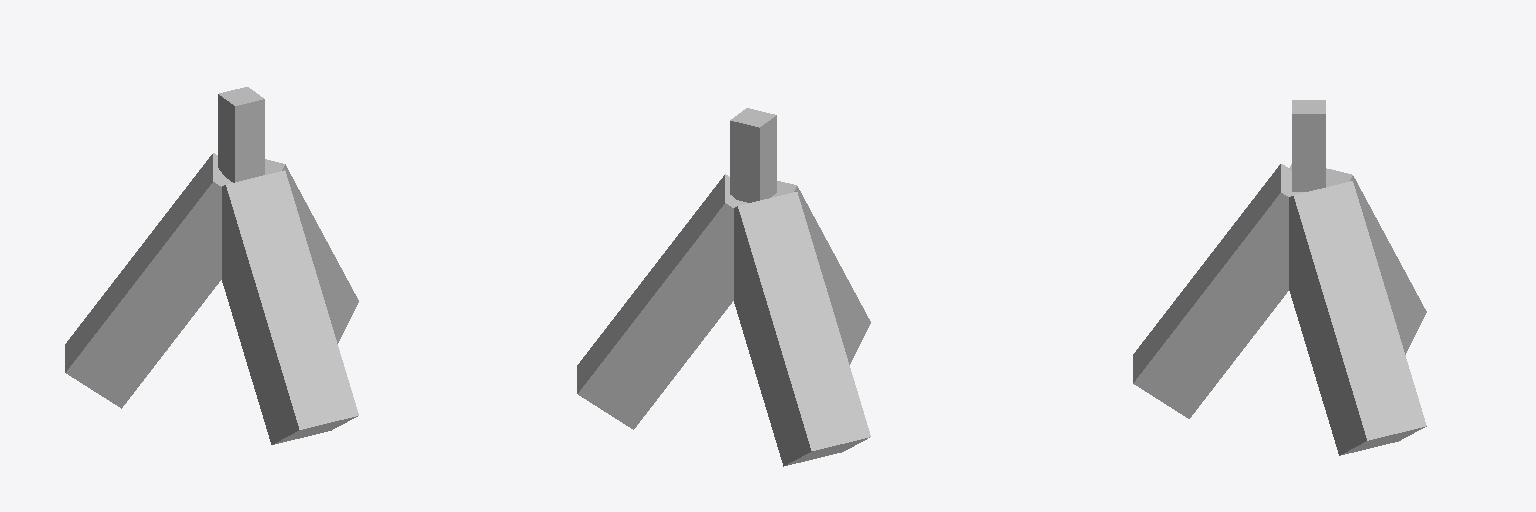
Rendered from tripod.obj.
The picture shows the model from 3 angles: view 1: azimuth 30°, elevation 25°; view 2: azimuth 150°, elevation 25°; view 3: azimuth 270°, elevation 25°; orthographic projection.
Parts seen in each view (by area): view 1: tripod; view 2: tripod; view 3: tripod.
Boxes of the visible parts, x1=… form: tripod: x1=65, y1=87, x2=358, y2=444; tripod: x1=577, y1=108, x2=870, y2=466; tripod: x1=1133, y1=100, x2=1426, y2=455.
Bounding box in the file's own units: 0.5132 × 0.4971 × 0.4445.